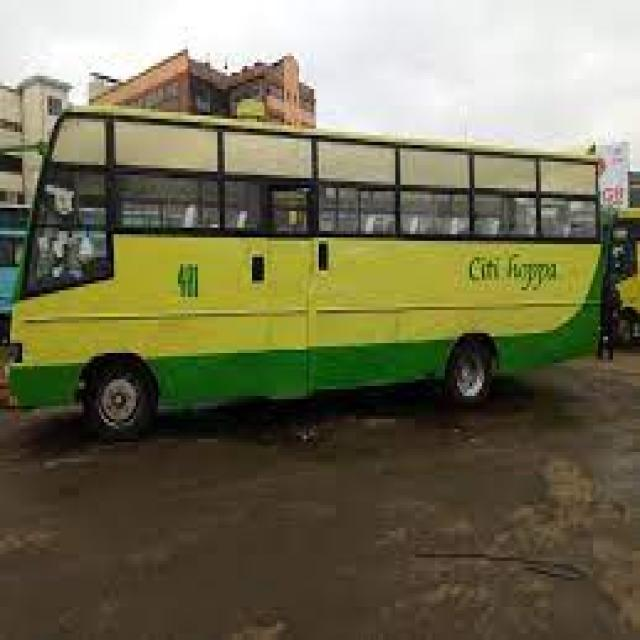bus: (0, 54, 618, 460)
